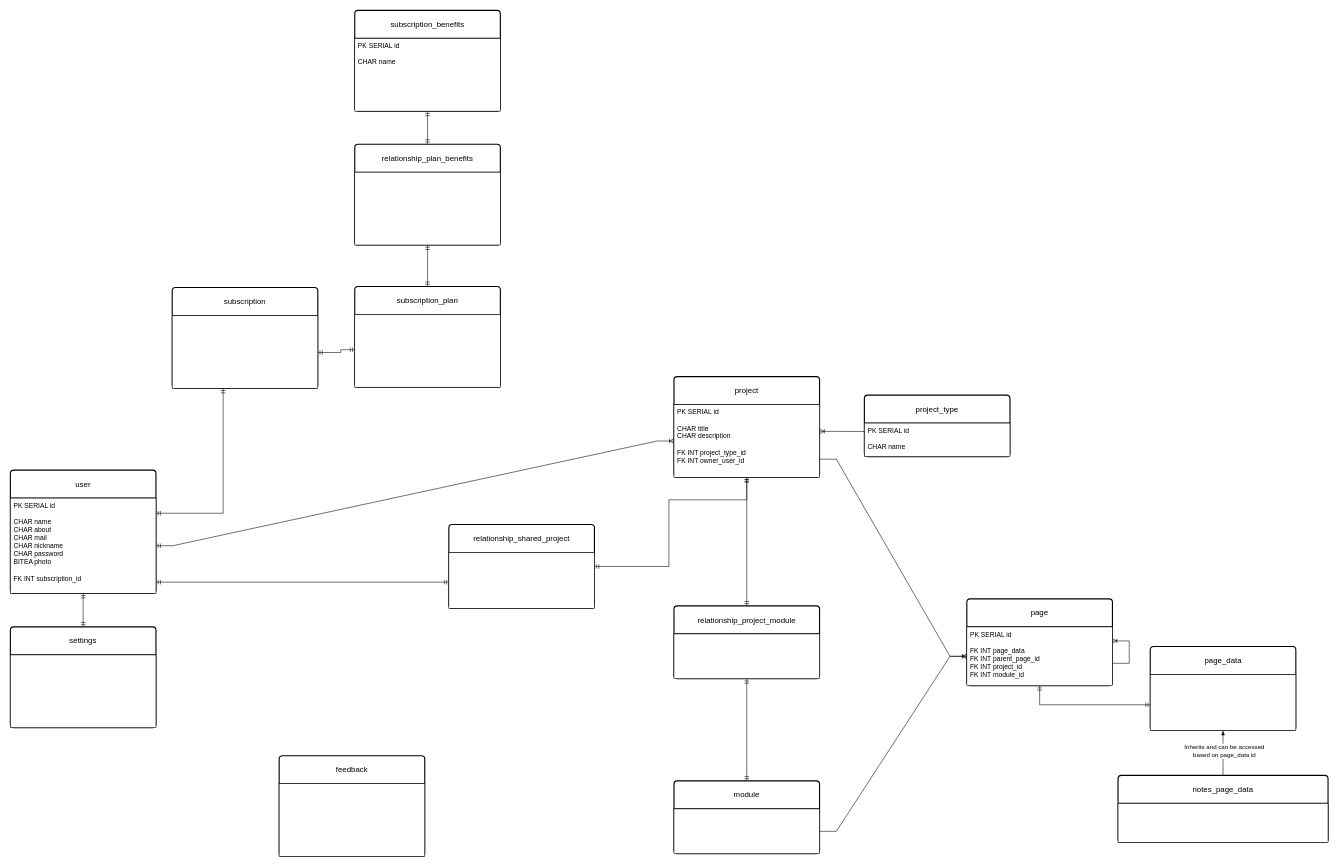
The diagram is 1338 pixels wide and 866 high, and some of its shapes have lost their labels. The shapes that lost their labels are listed below. From the top down, each one's centre as x and y in pixels, then its label:
the point at 427,208: PK SERIAL id FK INT subscription_plan_id FK INT subscription_benefits_id
the point at 245,351: PK SERIAL id DATE last_paid_date FK INT subscription_plan_id
the point at 427,350: PK SERIAL id CHAR name INT price FK INT benefits
the point at 521,580: PK SERIAL id INT permissions FK user_shared_id FK project_id
the point at 746,656: PK SERIAL id FK module_id FK project_id
the point at 83,691: PK SERIAL id CHAR language CHAR country CHAR theme FK INT user_id
the point at 1223,702: PK SERIAL id CHAR name CHAR emoji CHAR description
the point at 352,820: PK SERIAL id CHAR mail INT rating CHAR comentary
the point at 746,831: PK SERIAL id CHAR name CHAR description
the point at 1222,823: PK INTEGER REFERENCES page_data (id) CHAR content
